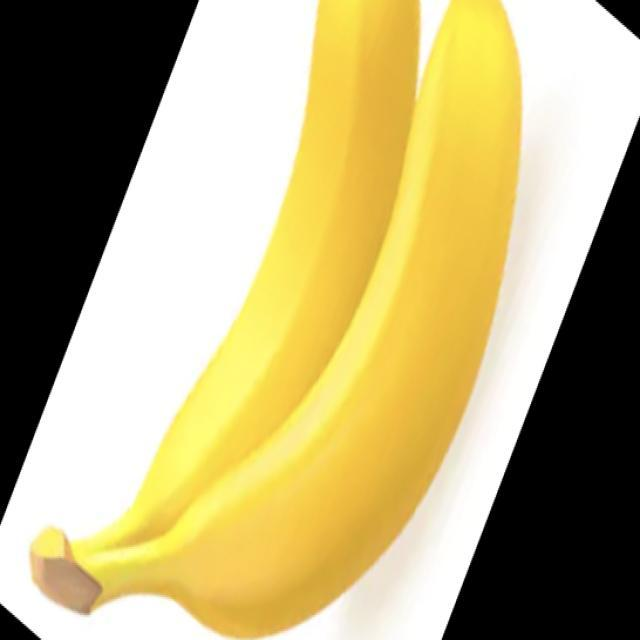Banana: (27, 0, 523, 639)
